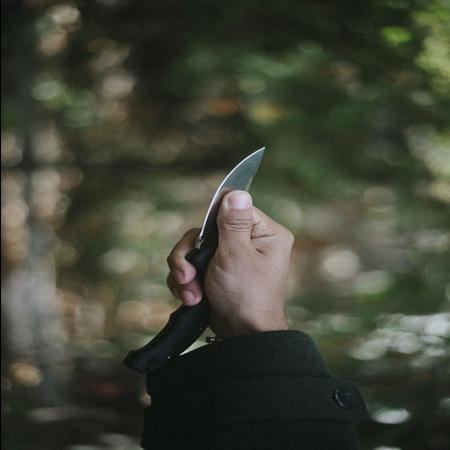long weapon: (170, 142, 272, 274)
